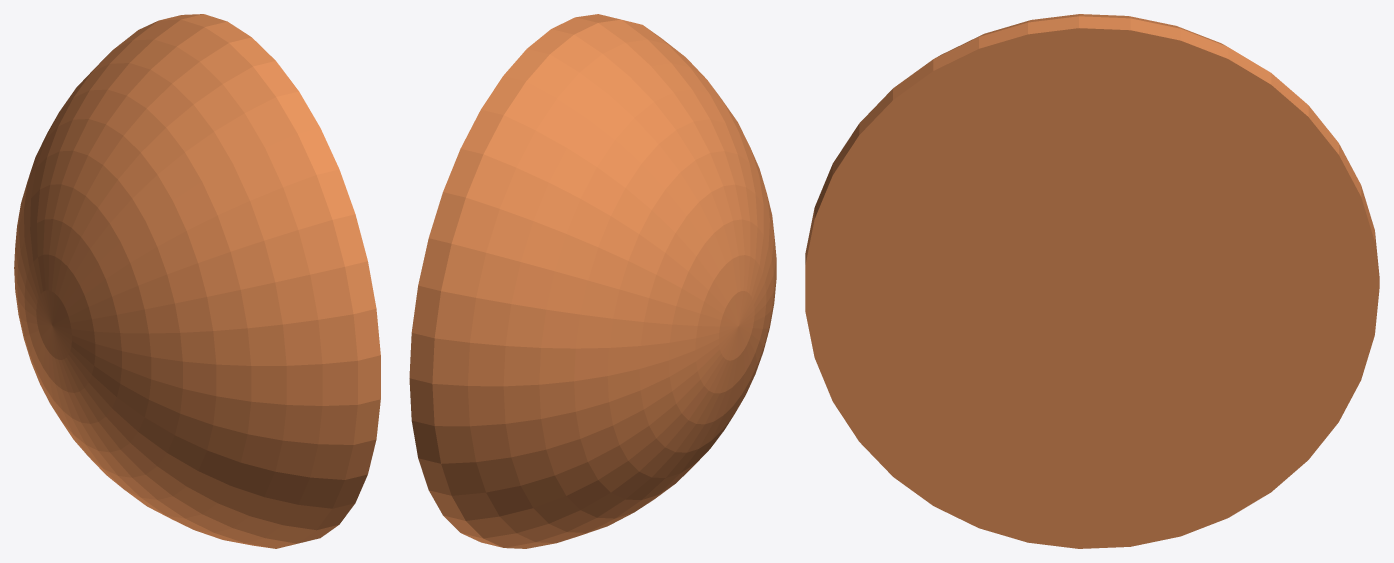
File: FBX_Upbun.fbx
The picture shows the model from 3 angles, left to right: view 1: azimuth 30°, elevation 25°; view 2: azimuth 150°, elevation 25°; view 3: azimuth 270°, elevation 25°; orthographic projection. The views are drawn at different scales.
Visible parts, largest first — view 1: bunss; view 2: bunss; view 3: bunss.
Boxes of the visible parts, bbox=[...] form: bunss: bbox=[14, 14, 380, 548]; bunss: bbox=[409, 14, 776, 548]; bunss: bbox=[805, 14, 1379, 548].
Size of the model in its own units: 78.4 by 190 by 190.
